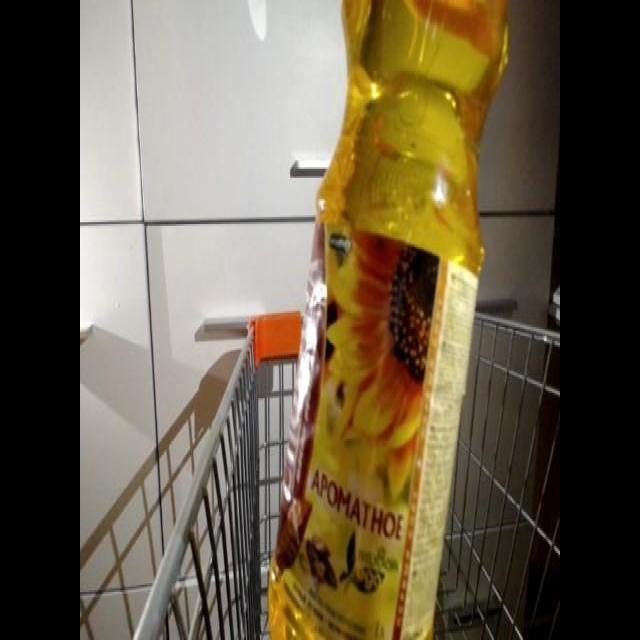Oil: (263, 2, 513, 640)
